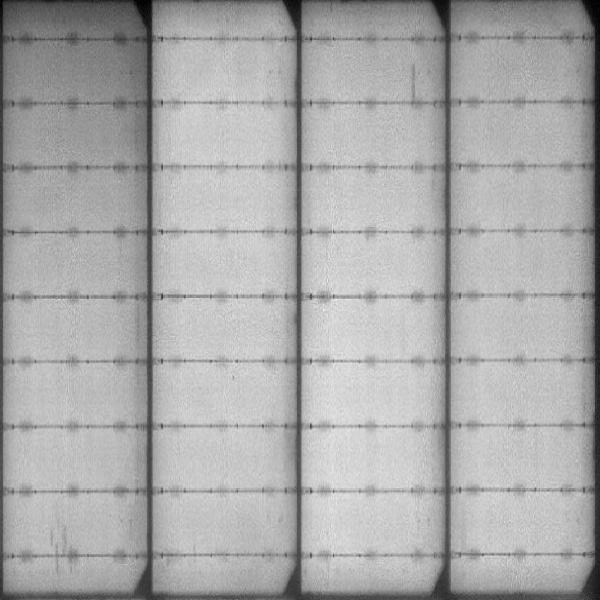scratch: (44, 526, 87, 571), (406, 64, 418, 99)
